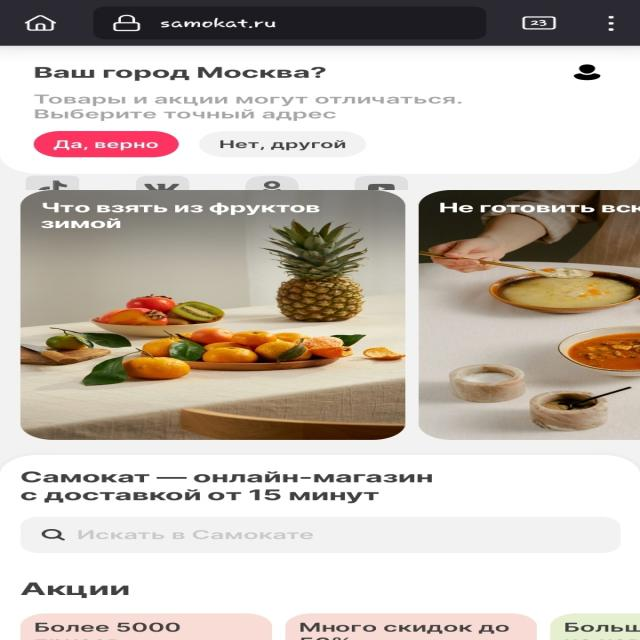button: (199, 130, 366, 159), (36, 131, 183, 157)
site: (0, 47, 640, 172)
